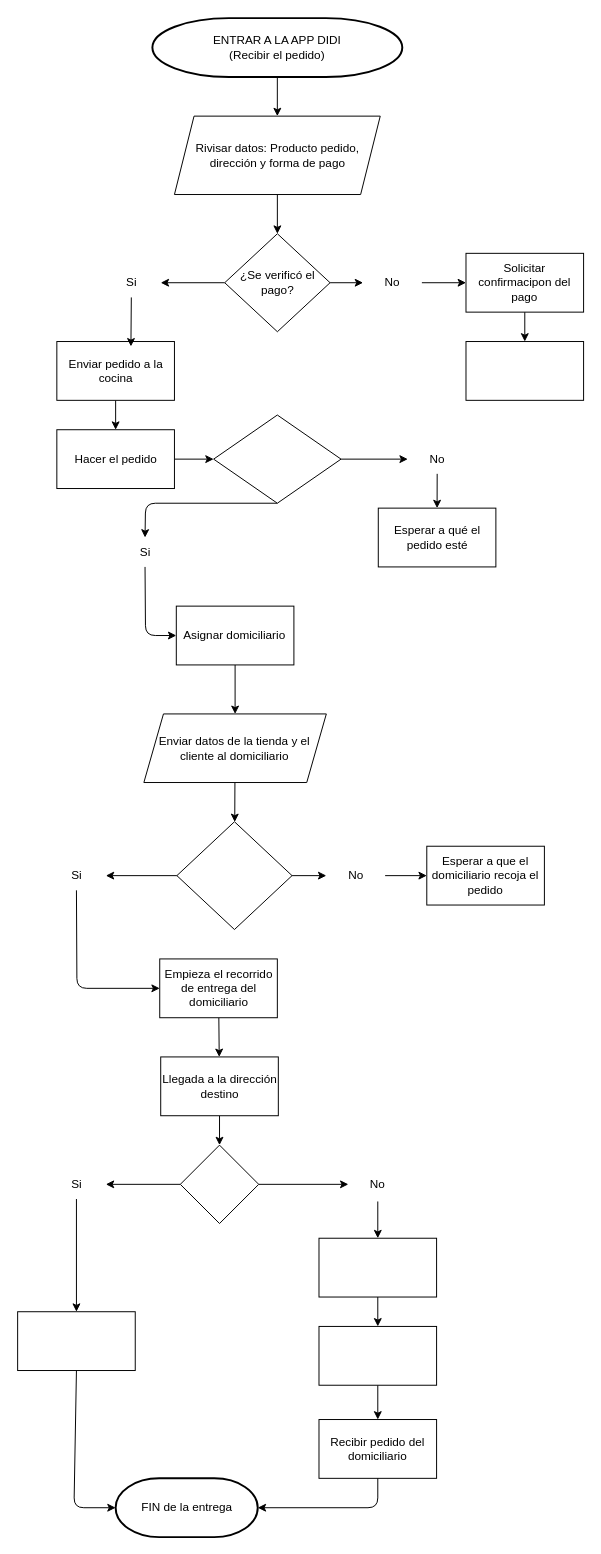
The diagram is 601 pixels wide and 1554 high, and some of its shapes have lost their labels. The centre of each missing label's shape, as x and y in pixels:
"Cancelar pedido (Si no hay pago)" belongs at (x=524, y=370).
"Entregar pedido (Tras confimación y pago del pedido)" belongs at (x=76, y=1341).
"Intentar contactar al cliente" belongs at (x=377, y=1267).
"Reporte de las novedades de la no entrega" belongs at (x=377, y=1355).
"¿El domiciliario recogió el pedido?" belongs at (x=234, y=875).
"¿Entrega completa?" belongs at (x=219, y=1184).
"¿Listo el pedido?" belongs at (x=277, y=458).
